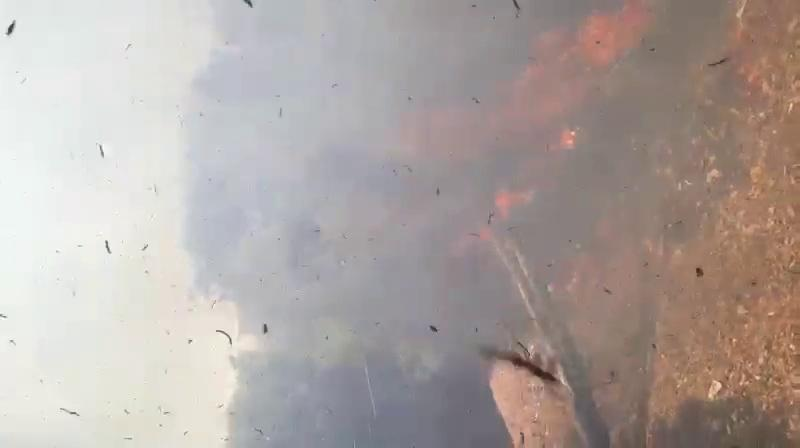fire: (578, 13, 632, 57)
